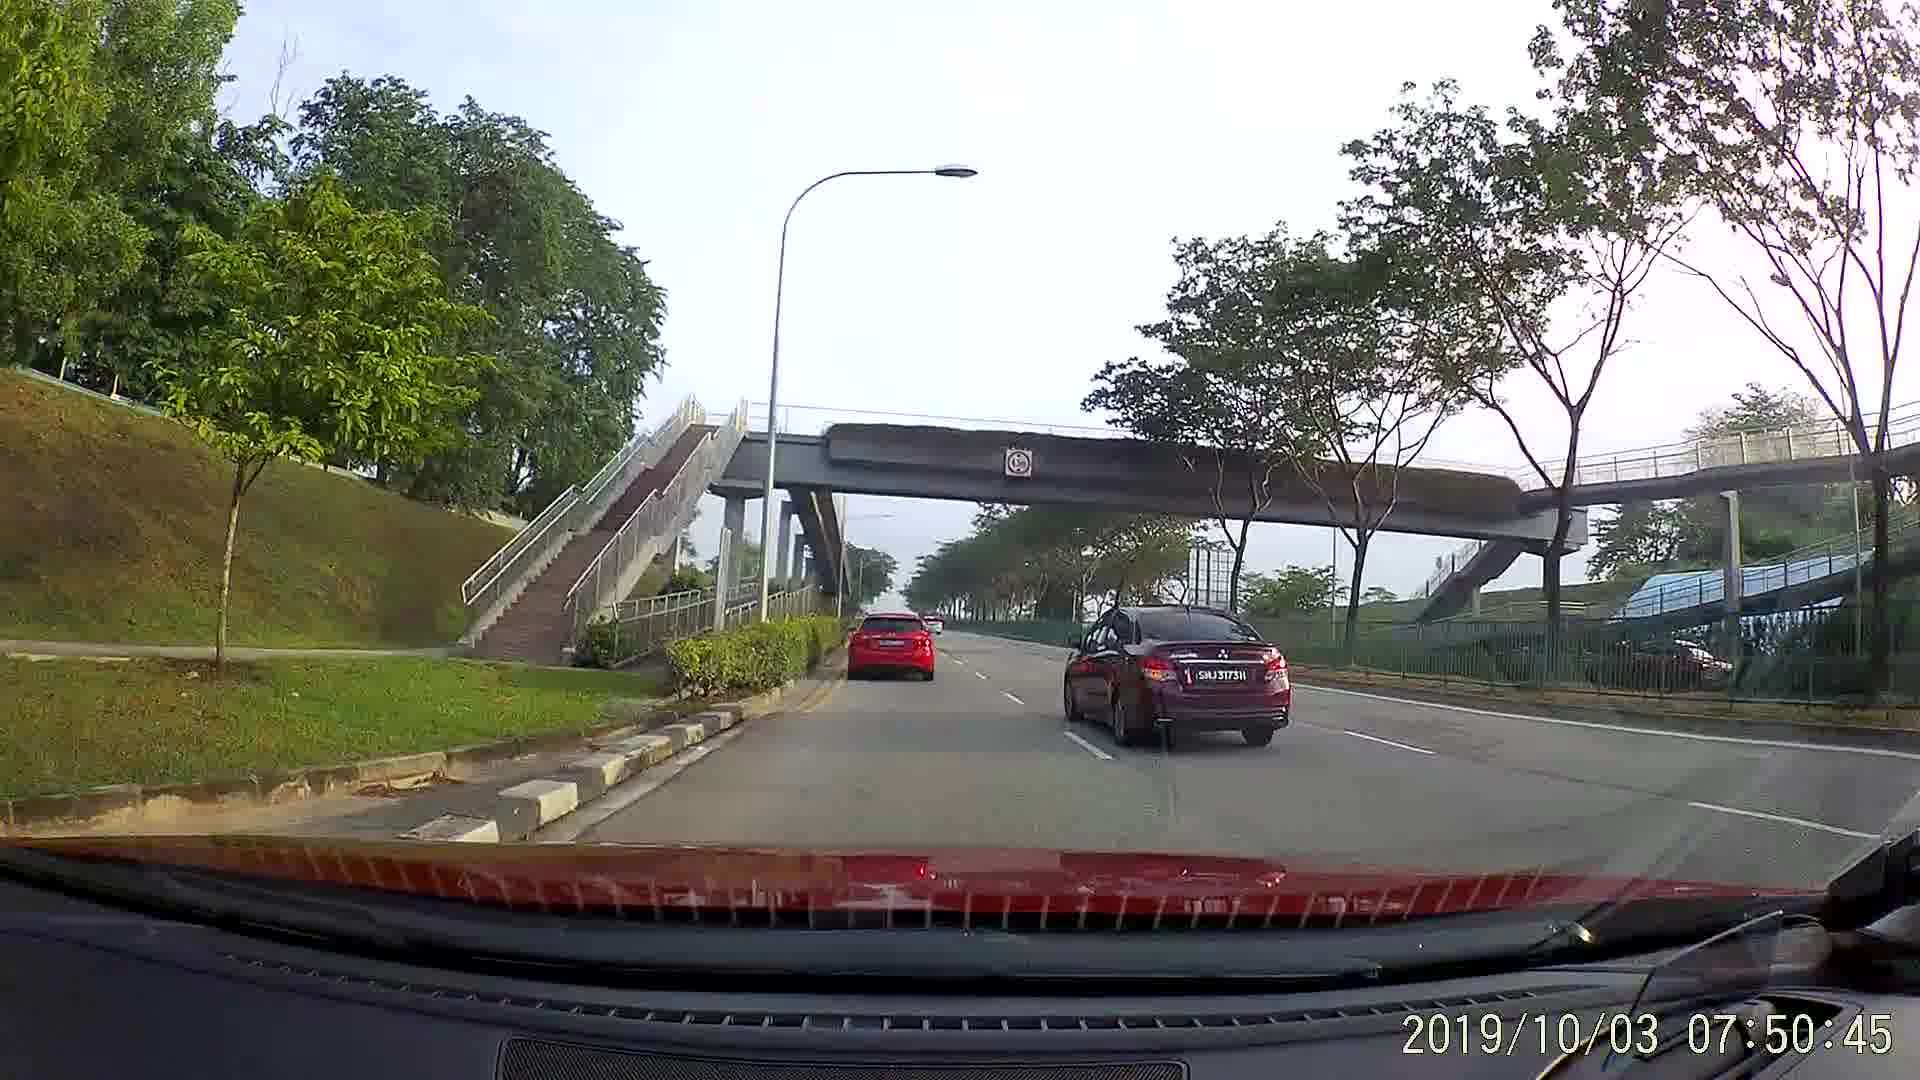car: (1064, 603, 1288, 756), (1617, 632, 1735, 692), (841, 609, 934, 680), (918, 613, 943, 638)
